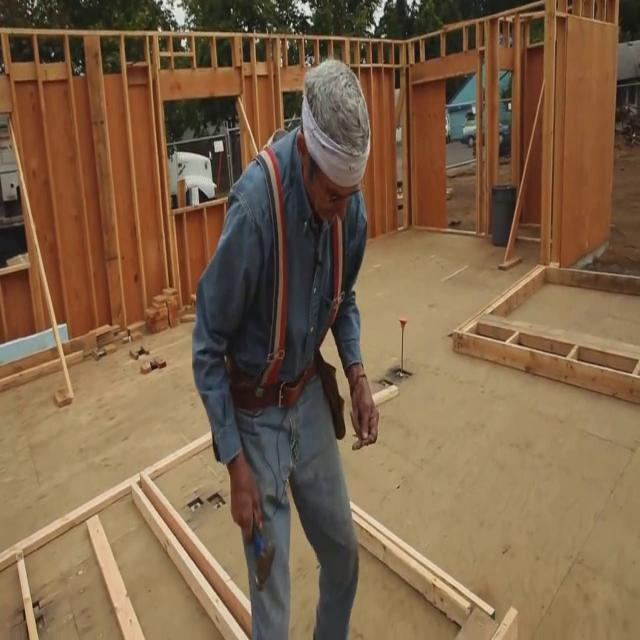hammer: (253, 523, 276, 594)
